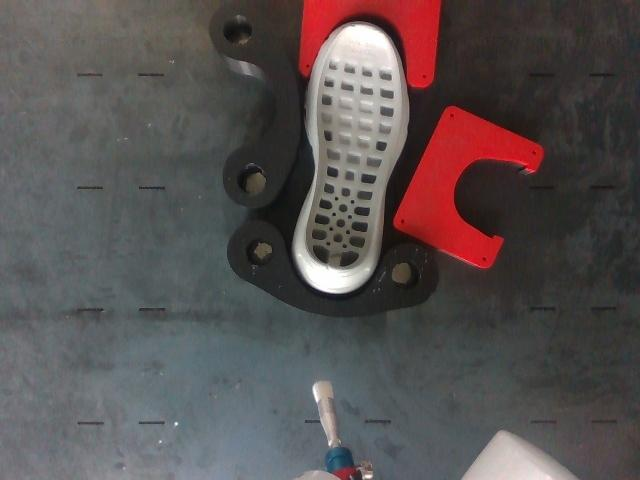shoes: (306, 25, 403, 269)
